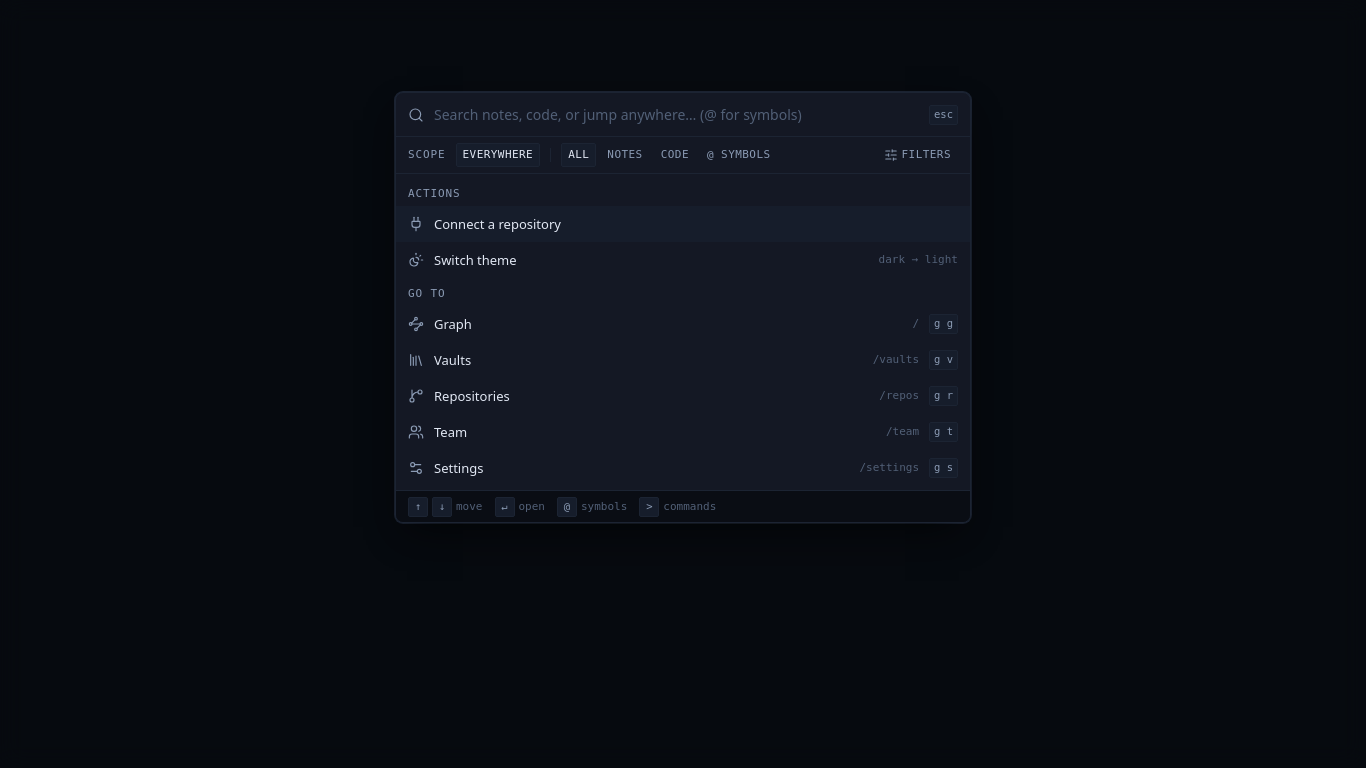
Test: SearchOverlay › clicking a code result toggles an inline preview without navigating or closing
Type "jane" into the dropdown with placeholder "Search notes, code, or jump anywhere… (@ for symbols)" at (676, 115), box [434,93,919,136]
Wait 300 ms
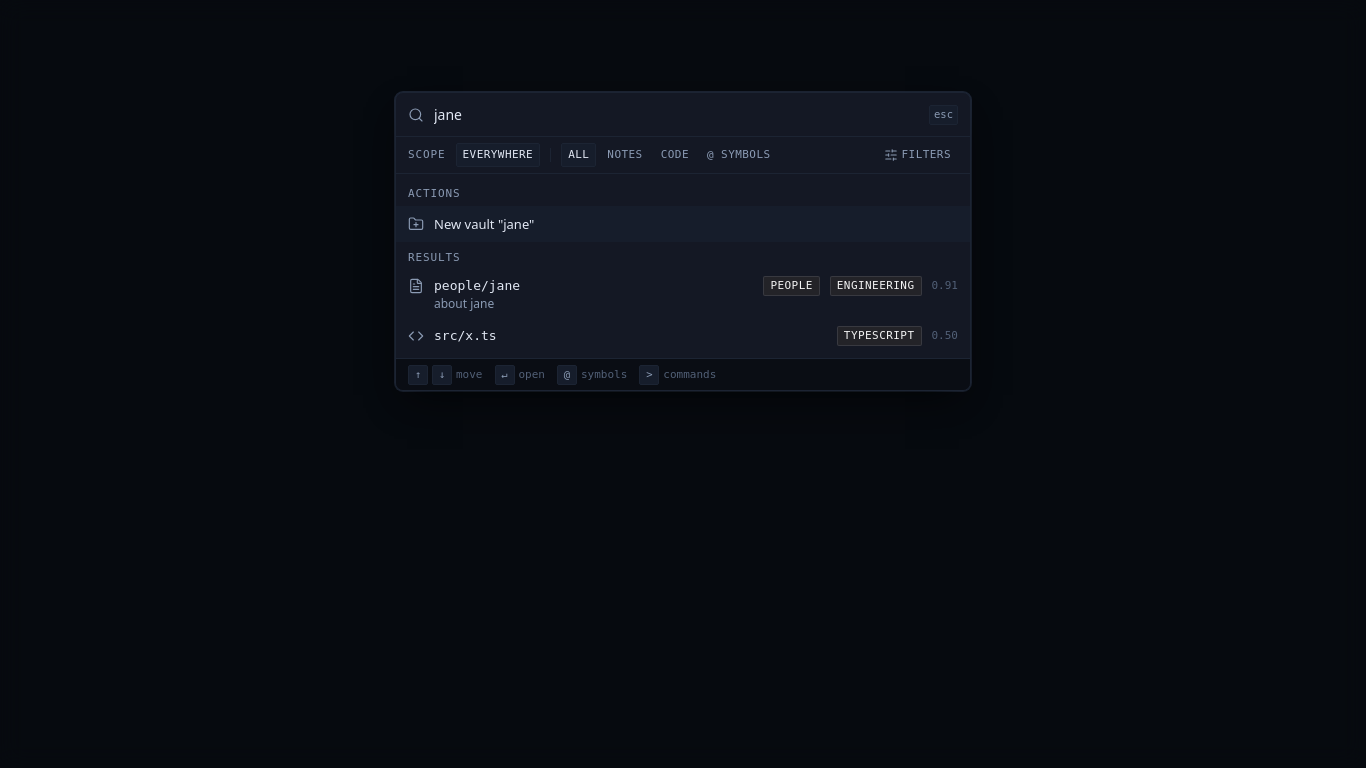
Expected: the text "export function x() { return 1 }" is not shown
Expected: the text "src/x.ts" is shown, [434,328,497,343]
Click the option "src/x.ts typescript 0.50" at (465, 335), box [396,318,970,354]
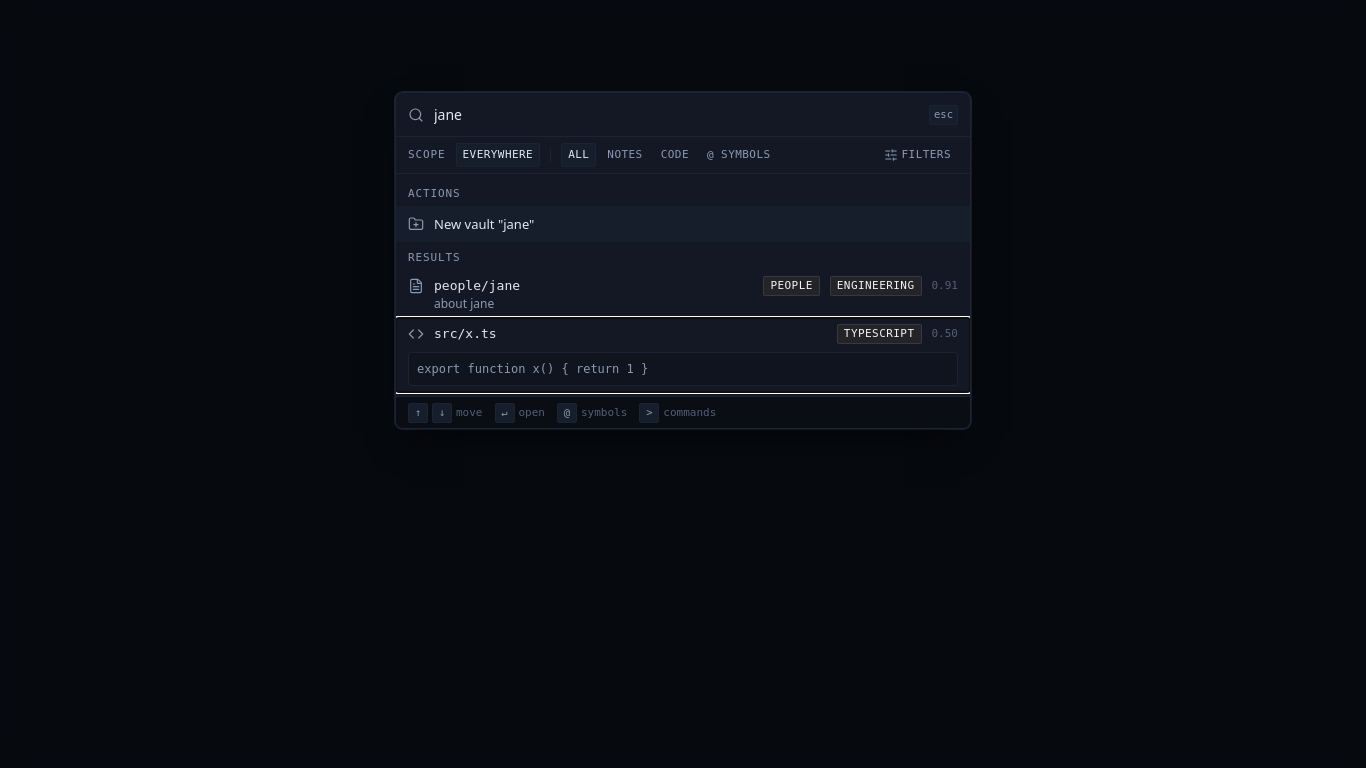
Expected: the text "export function x() { return 1 }" is shown, [408,352,958,386]
